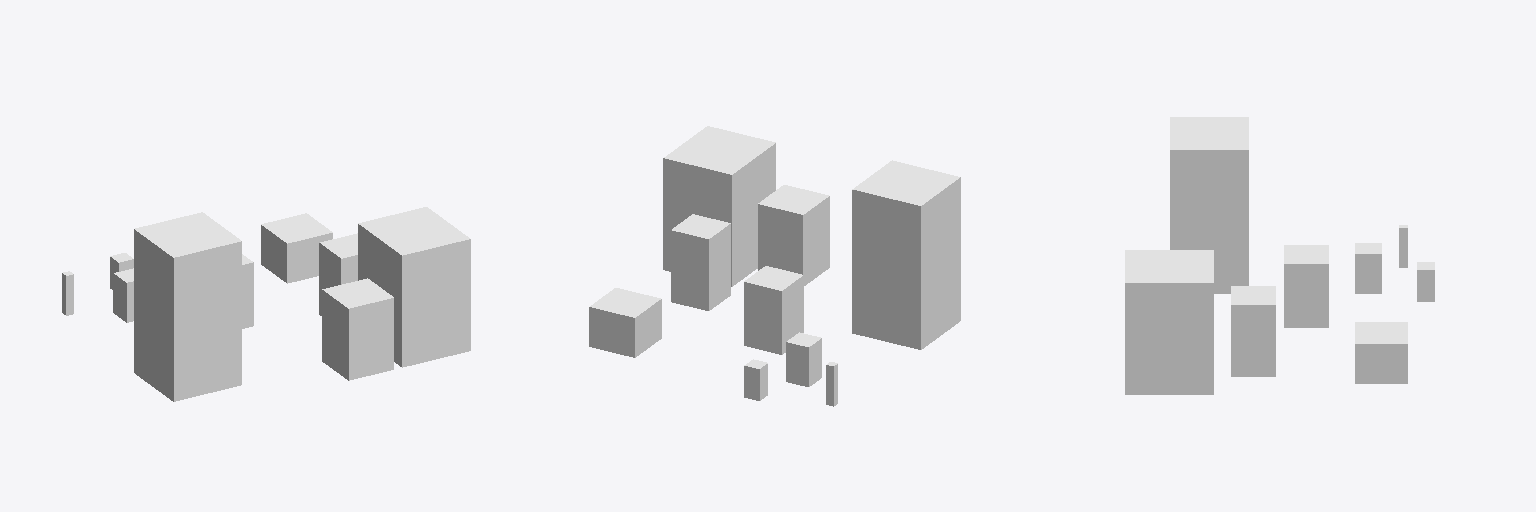
Rendered from ore.obj.
The picture shows the model from 3 angles: view 1: azimuth 30°, elevation 25°; view 2: azimuth 150°, elevation 25°; view 3: azimuth 270°, elevation 25°; orthographic projection.
Parts seen in each view (by area): view 1: ore; view 2: ore; view 3: ore.
Boxes of the visible parts, box(x1,y1,x2,y2) form: ore: box(62, 207, 470, 401); ore: box(589, 126, 960, 406); ore: box(1125, 117, 1434, 394).
Bounding box in the file's own units: 36 × 18 × 35.